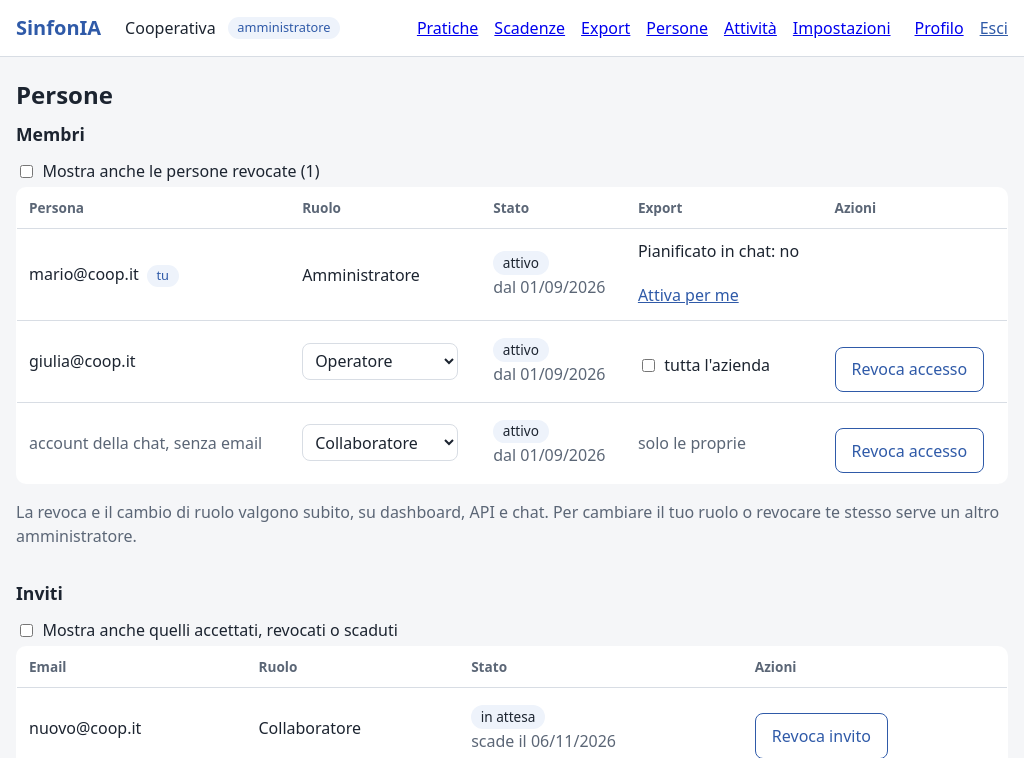
Test: people (FE4) › revokes with an optional reason and explains the last-admin refusal
The width and height of the screenshot is (1024, 758).
Click the button "Revoca accesso" in the row of "giulia@coop.it" at (909, 369), box [834,347,984,392]
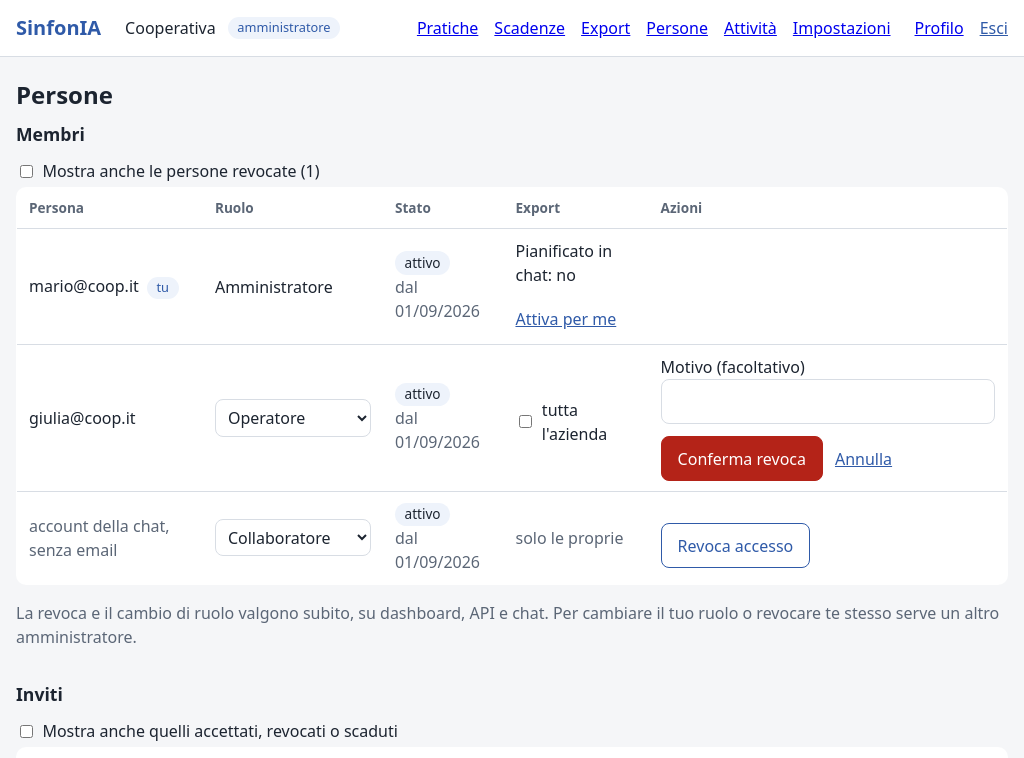
Type "fine contratto" into the field labelled "Motivo (facoltativo)" at (828, 401), box [661,379,995,424]
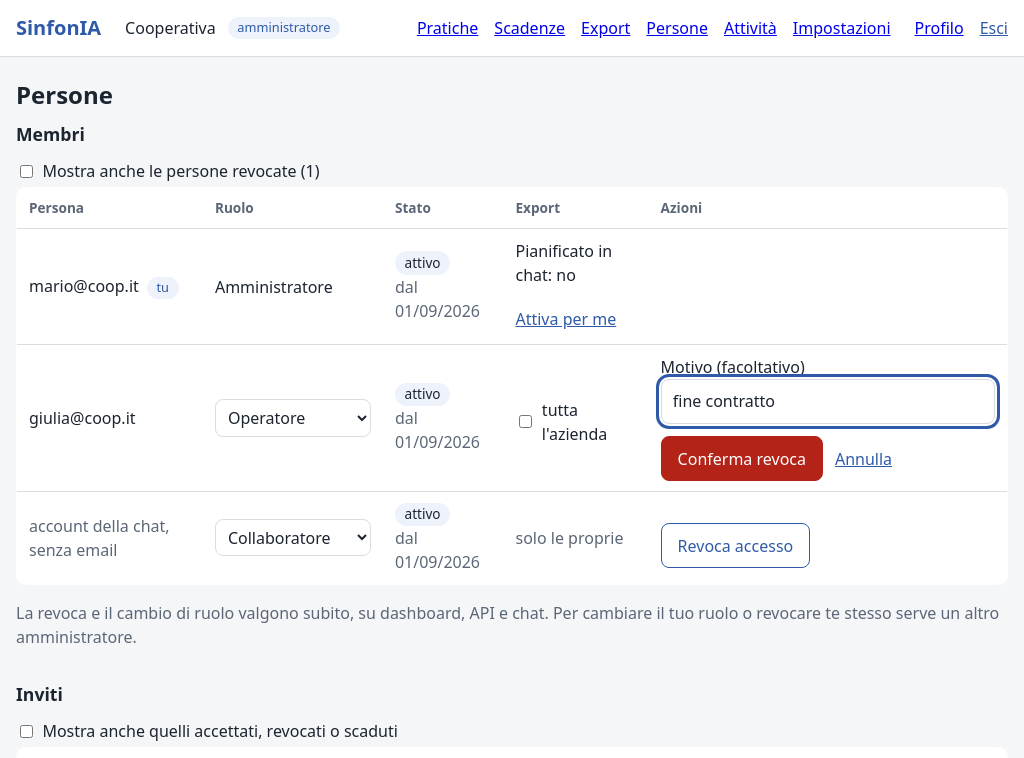
Click the button "Conferma revoca" at (742, 458), box [661,436,823,481]
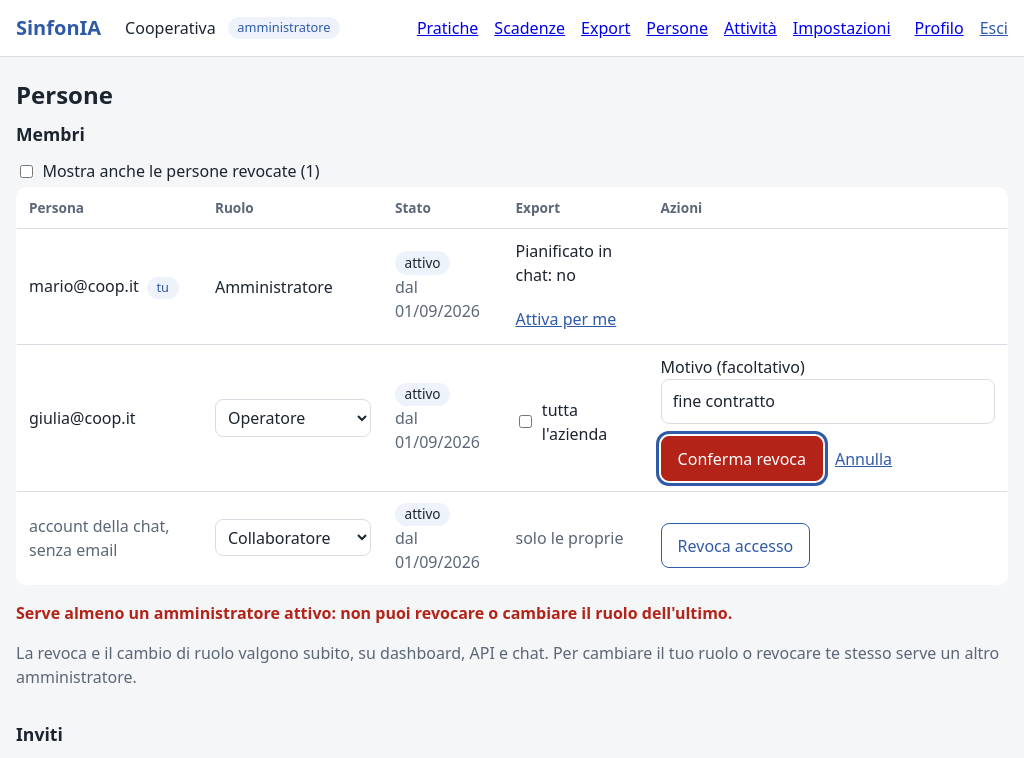
Check: the message shows "almeno un amministratore", box [16,602,732,624]
